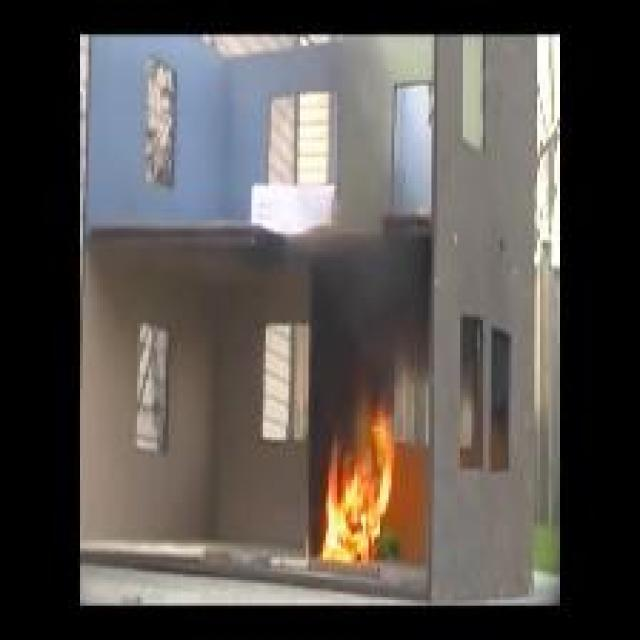Fire: (320, 404, 394, 564)
